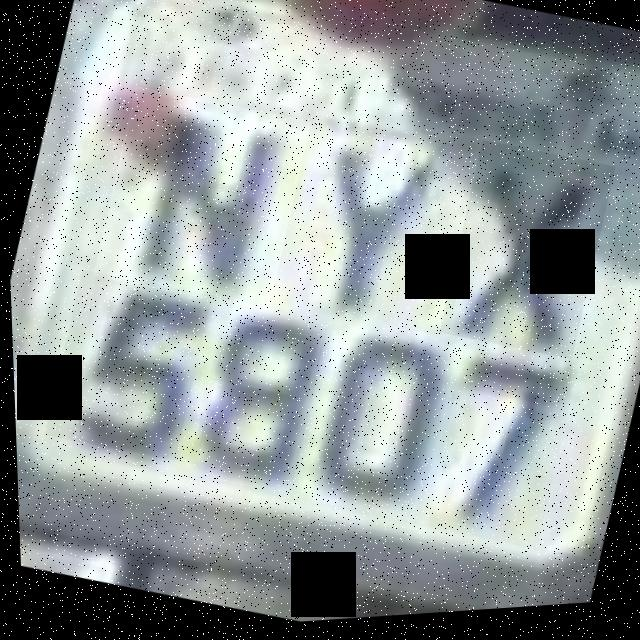0: (286, 306, 473, 536)
5: (36, 263, 236, 475)
7: (402, 328, 583, 563)
8: (162, 283, 351, 506)
N: (85, 78, 316, 323)
X: (430, 140, 619, 373)
Y: (269, 105, 459, 343)
